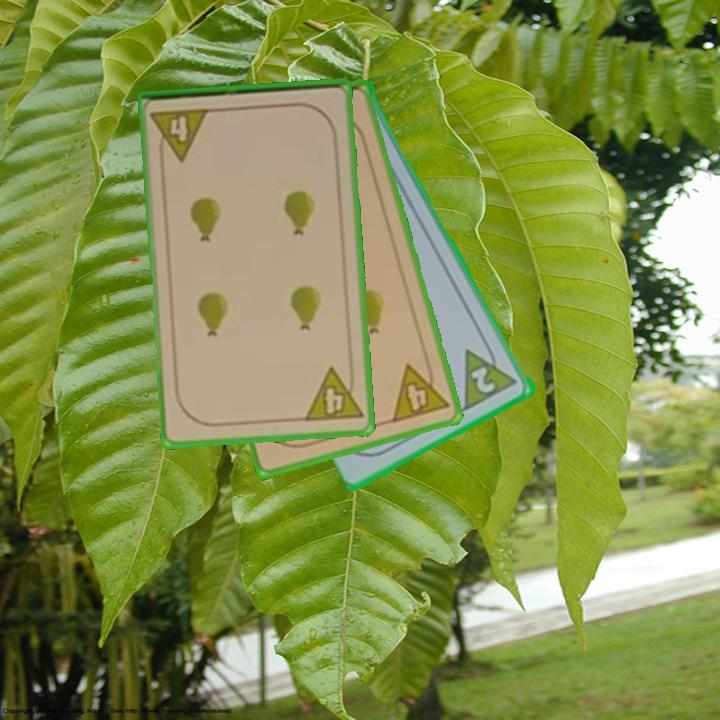2p: (460, 336, 521, 413)
4p: (388, 355, 452, 426), (300, 363, 366, 425), (147, 104, 213, 165)
